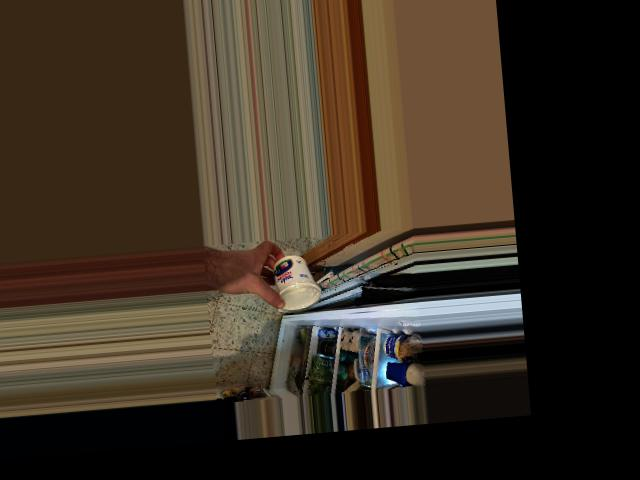cotage: (264, 250, 324, 314)
